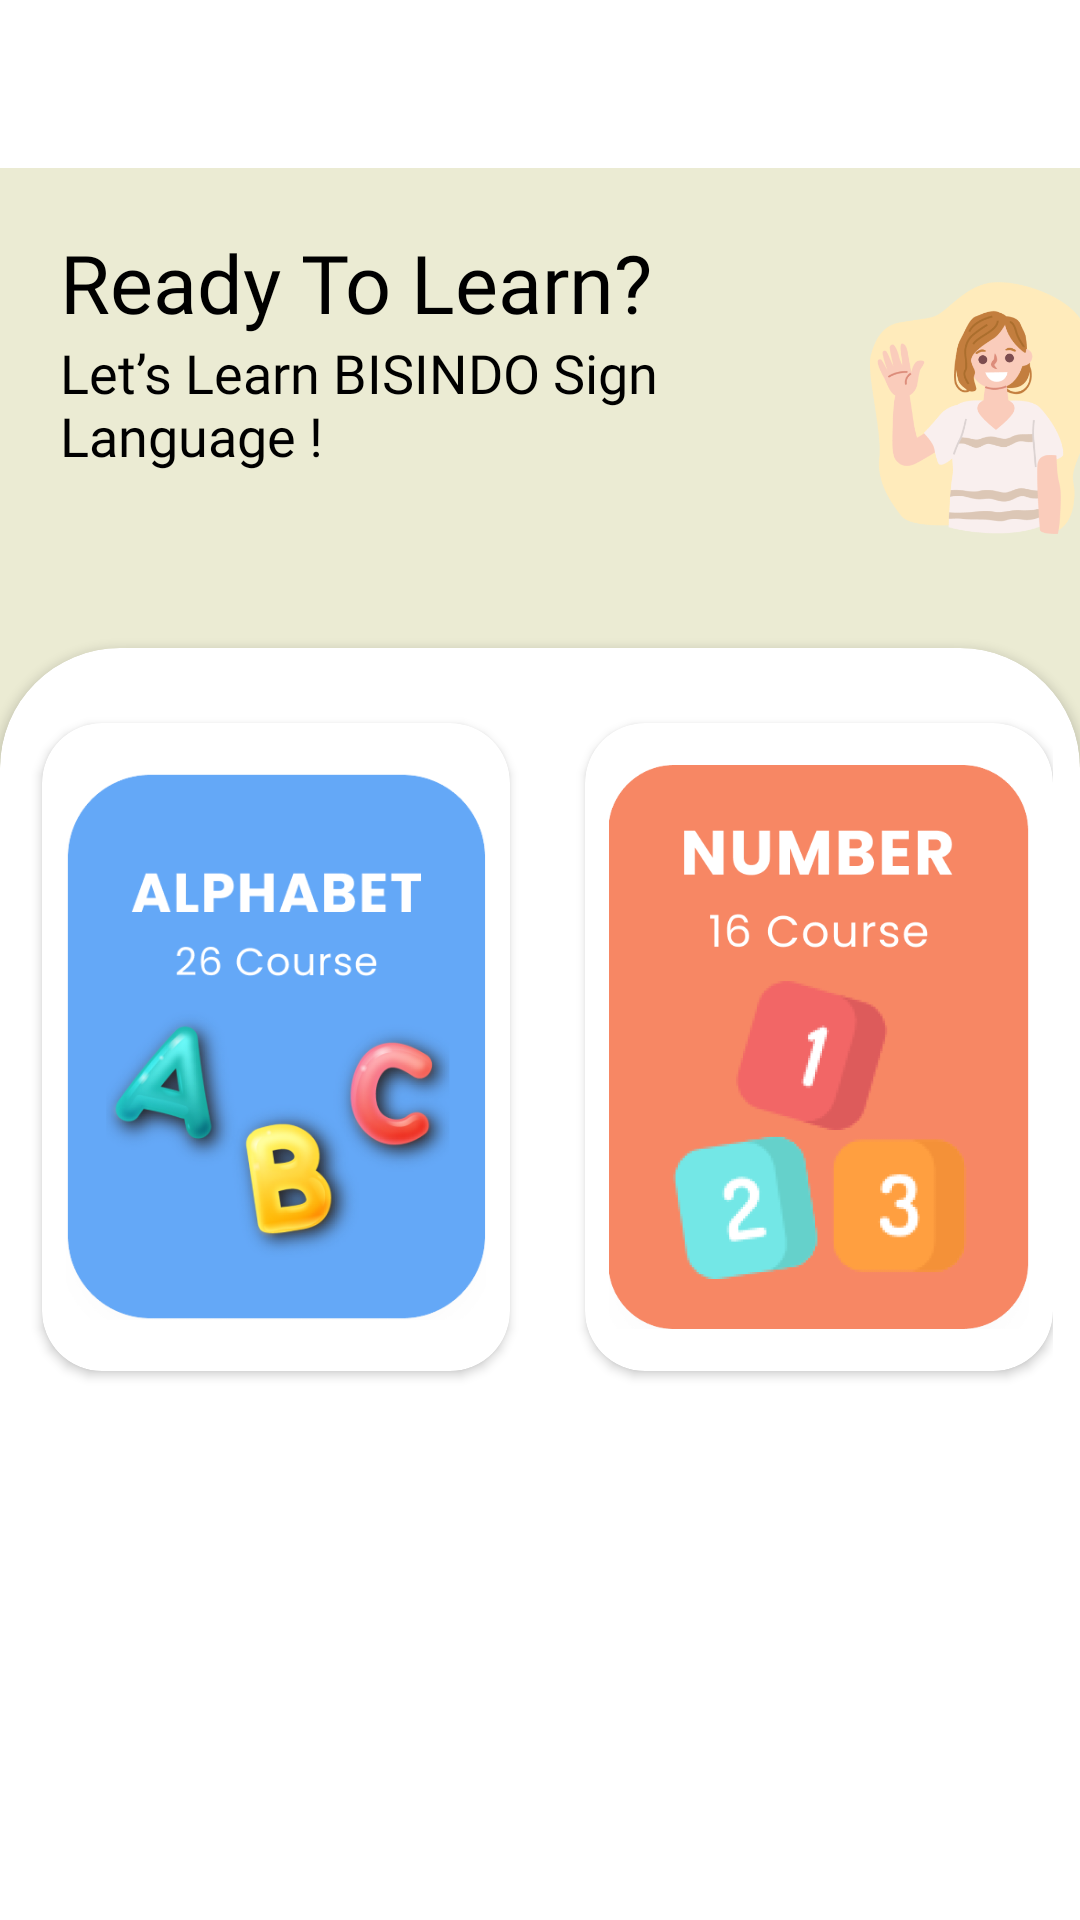

Icons on this 1080px x 1920px Android screen, each with the point to tap as (x=x, y=y):
PERSON: (x=970, y=422)
